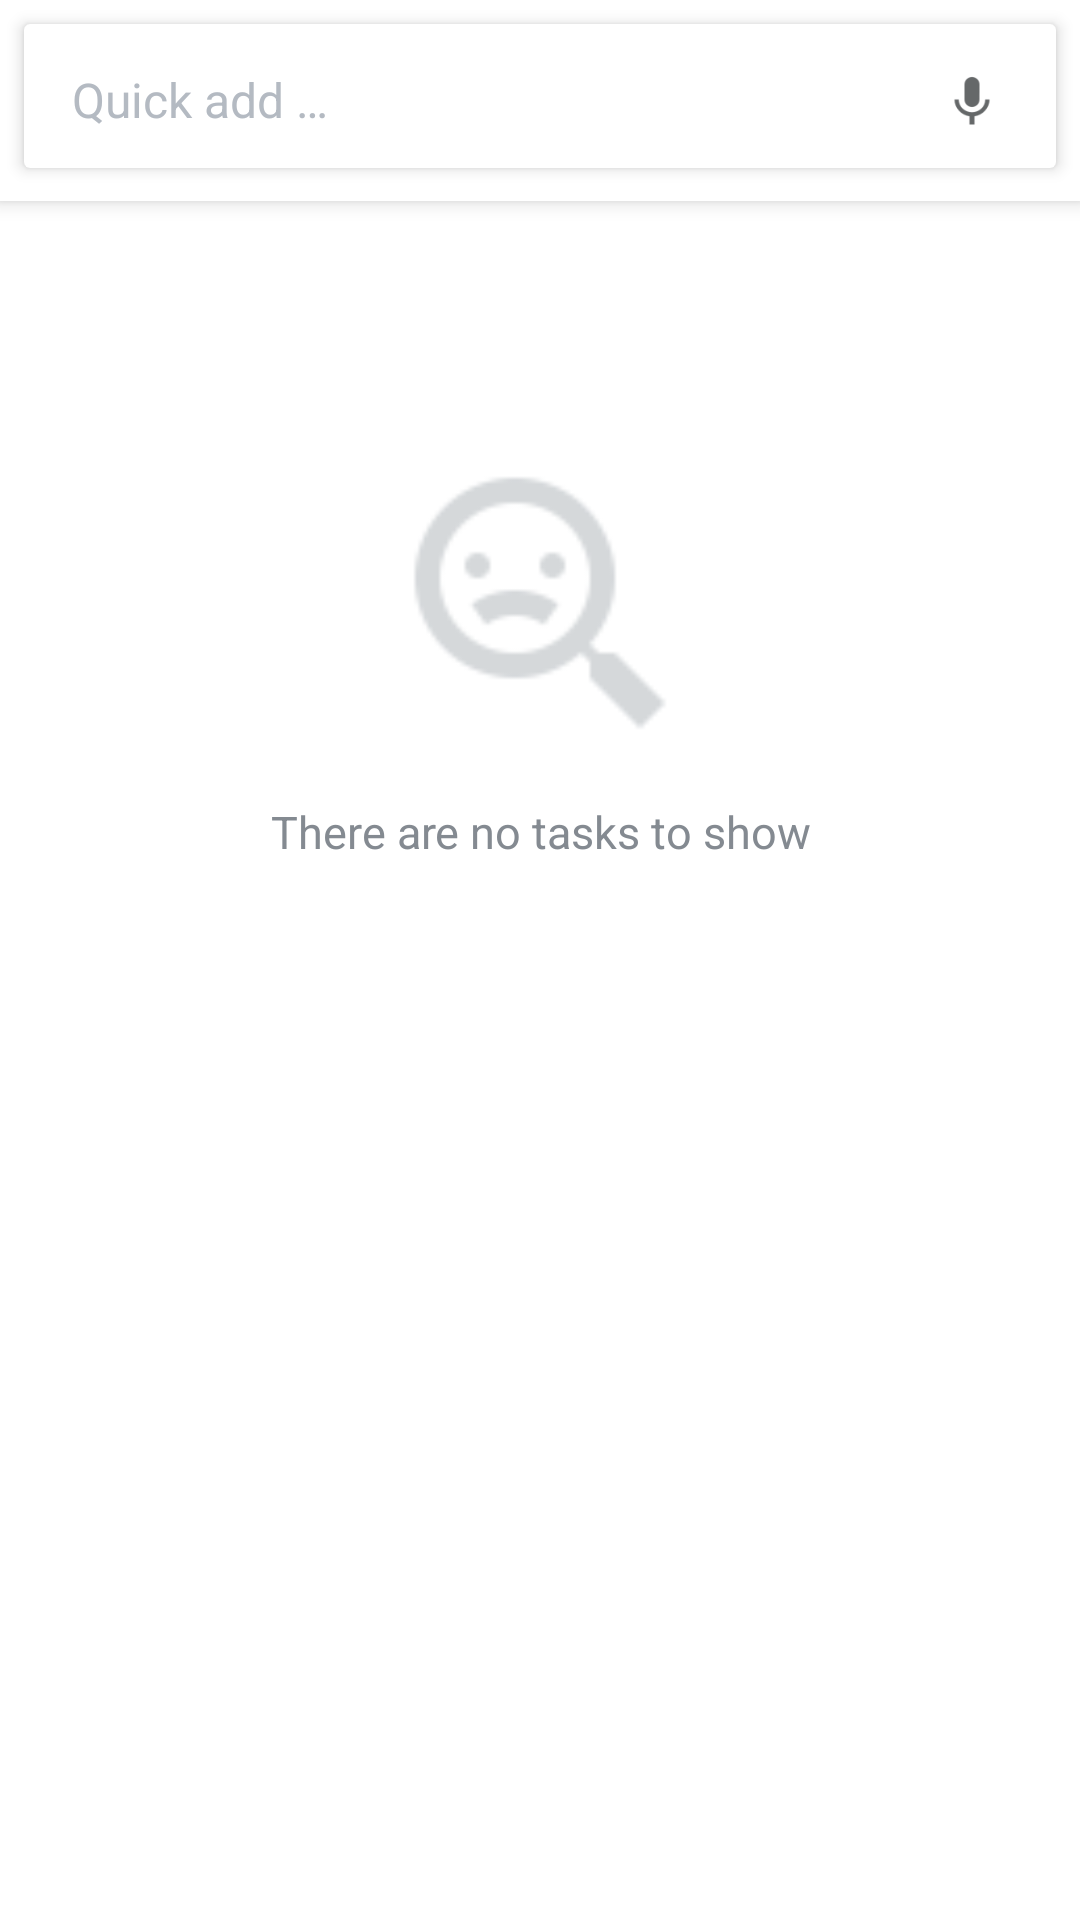

Named icons in this screenshot (1080*1920) and their centers, (x=x, y=y):
microphone home: (x=972, y=101)
no tasks home: (x=538, y=601)
